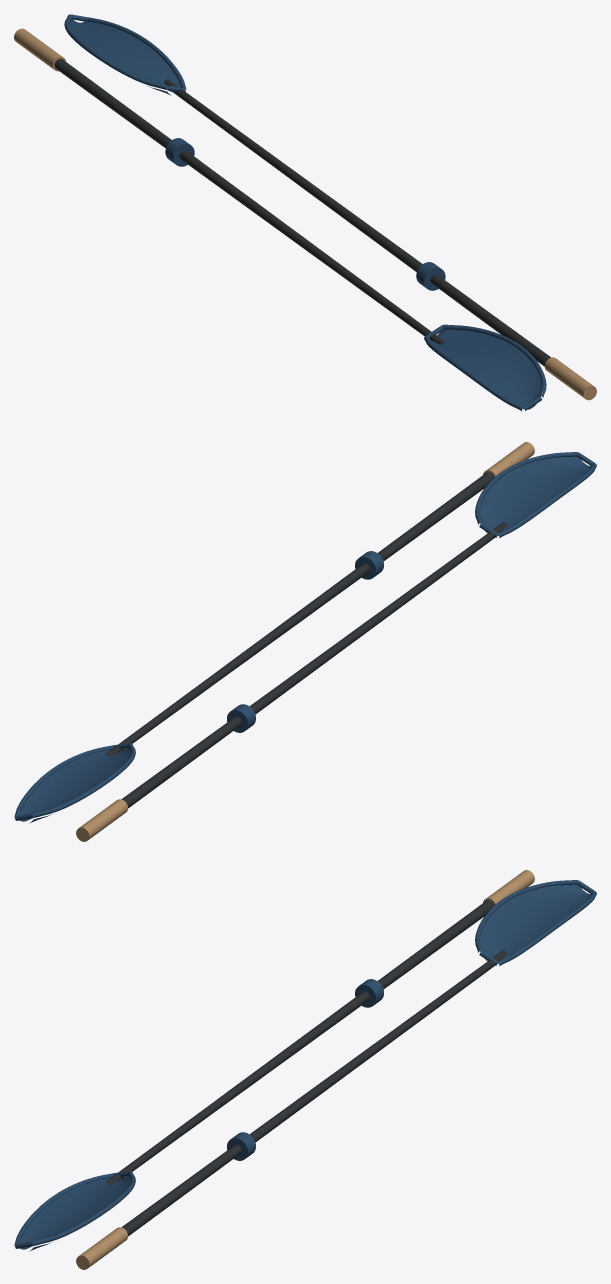
The model's file is rowing-boathouse-and-regatta-course-sculling-oar-pair-a0069233__32131.glb.
3 renders of one model, top to bottom at view 1: azimuth 30°, elevation 25°; view 2: azimuth 150°, elevation 25°; view 3: azimuth 330°, elevation 25°, orthographic.
Visible parts, largest first — view 1: sculling-oar-pair; view 2: sculling-oar-pair; view 3: sculling-oar-pair.
Part boxes in pixels (<box>): sculling-oar-pair: <box>14,14,596,411</box>; sculling-oar-pair: <box>14,442,596,841</box>; sculling-oar-pair: <box>14,870,596,1269</box>.
Bounding box in the file's own units: 0.3356 × 0.089 × 2.89.
